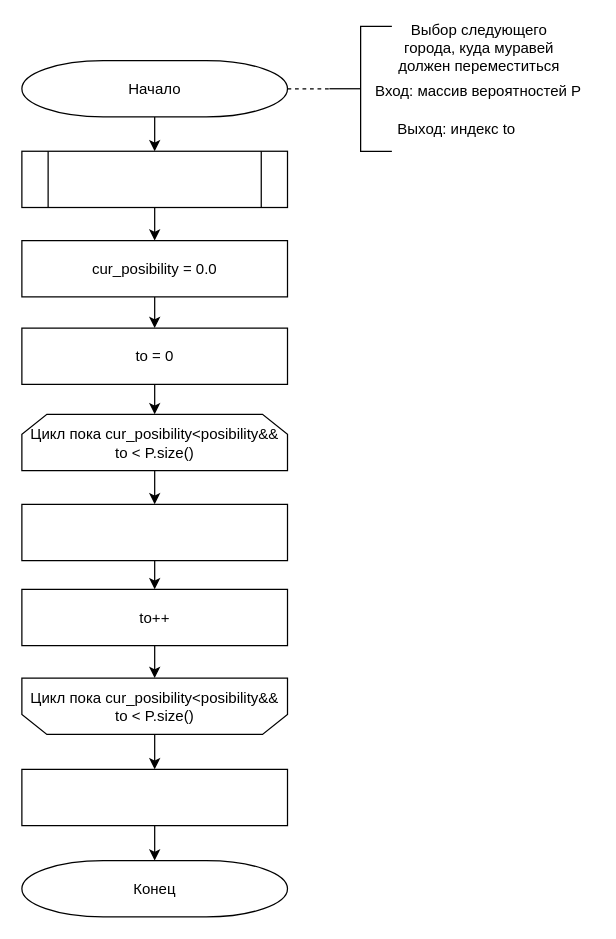
Image size: 616x939. Some labels were removed from this diagram. The box of each missing label's shape, as (x1, y1, x2, y2) in pixels:
cur_posibility += P[to]: (21, 503, 288, 561)
posibility = rand() / RAND_MAX: (21, 150, 288, 208)
Вернуть tо - 1: (21, 768, 288, 826)
